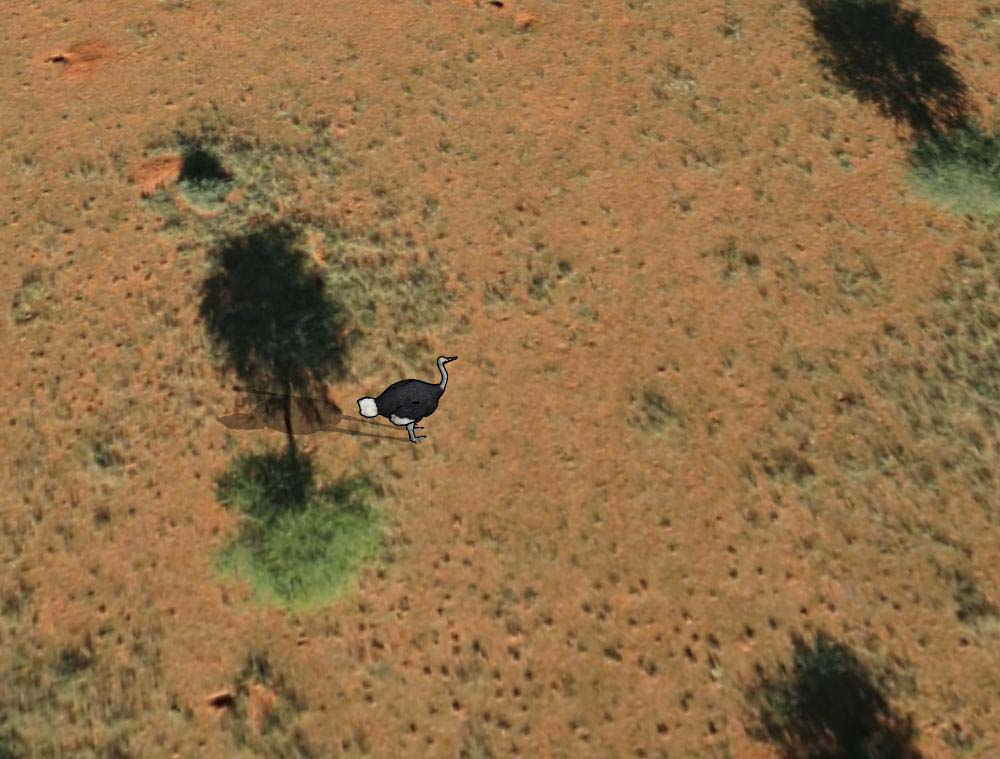springbok: (360, 351, 463, 443)
